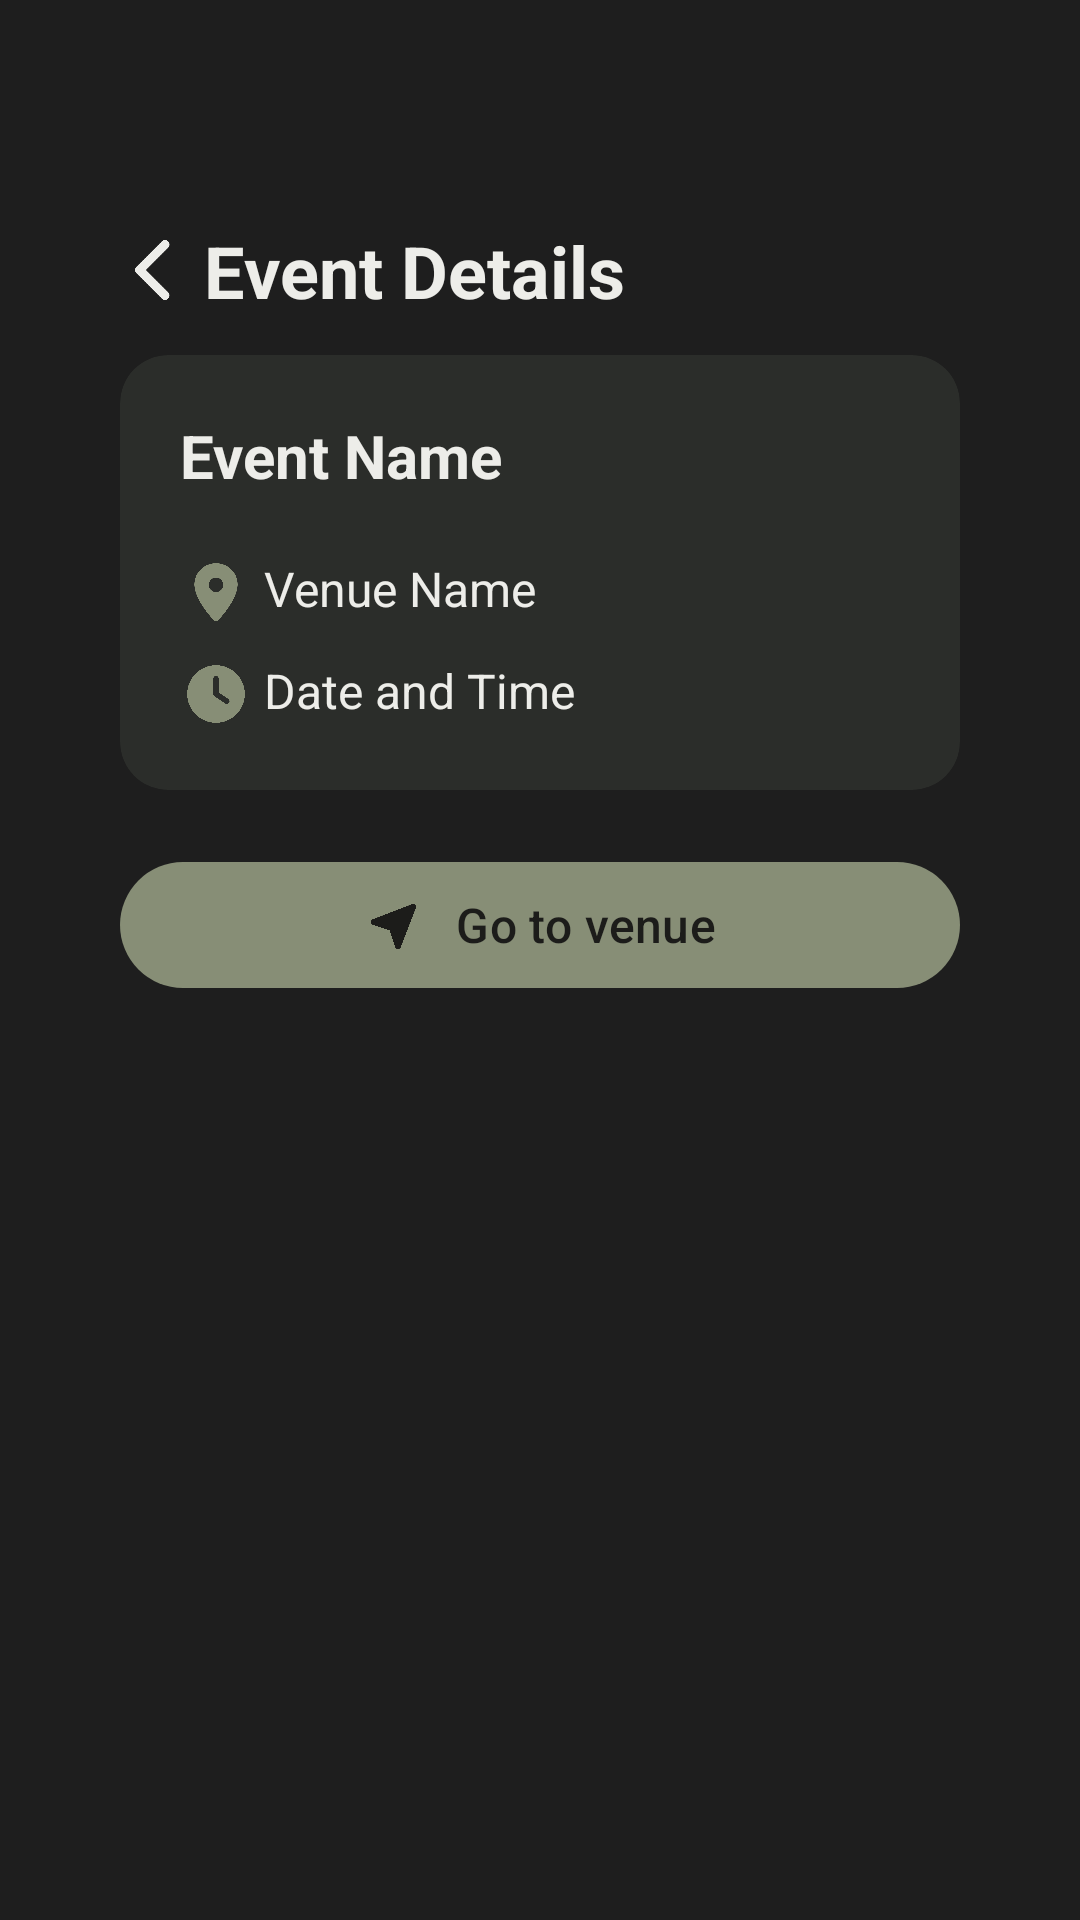

Icon click points for this 1080×1920 phone screenshot, format point (x, y):
back: point (152, 270)
clock: point (216, 694)
location: point (216, 592)
